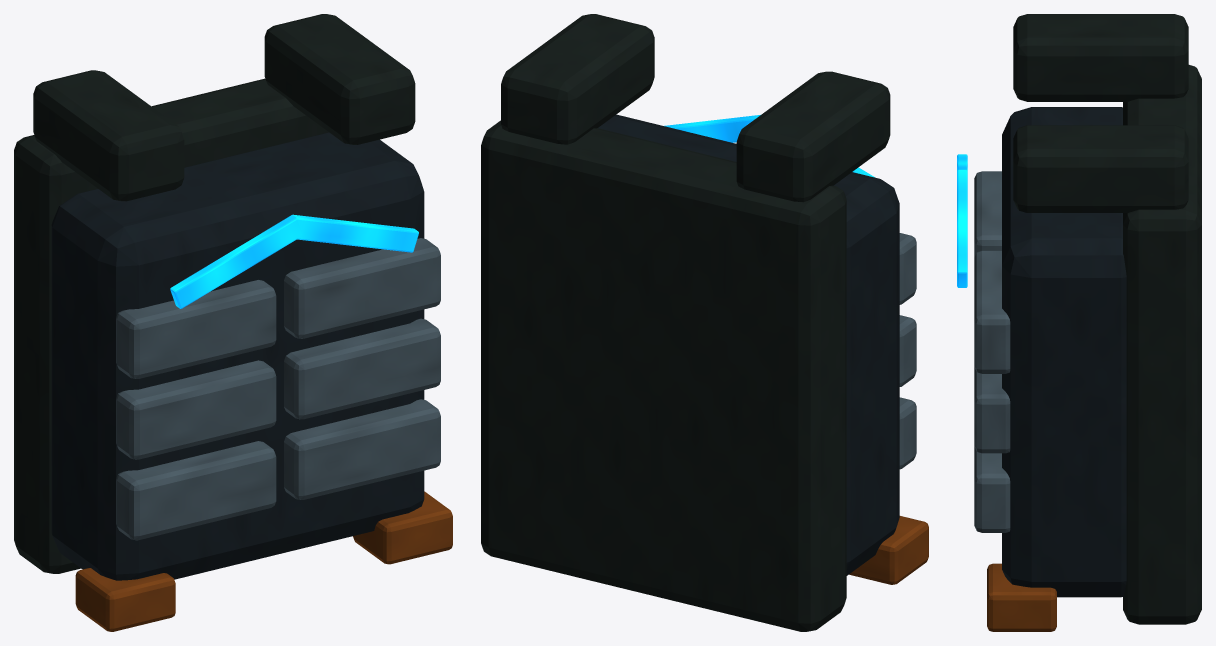
File: armour_vest.glb
3 renders of one model, left to right at view 1: azimuth 30°, elevation 25°; view 2: azimuth 150°, elevation 25°; view 3: azimuth 270°, elevation 25°, orthographic. The views are drawn at different scales.
Parts seen in each view (by area): view 1: armour_vest; view 2: armour_vest; view 3: armour_vest.
Part boxes in pixels (box(x1,y1,x2,y2)): armour_vest: box(14, 14, 452, 631); armour_vest: box(481, 14, 928, 631); armour_vest: box(957, 14, 1201, 631).
Bounding box in the file's own units: 0.45 × 0.59 × 0.279.
Materials: 5 (5 with a texture image).
